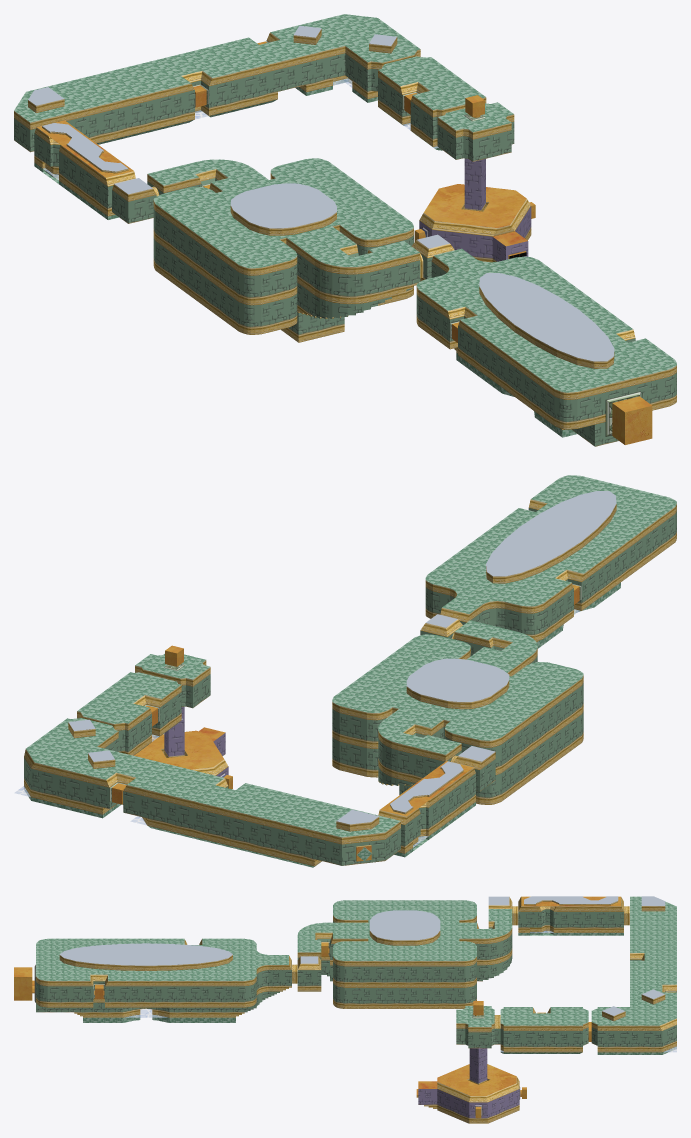
Rendered from kzsca_toonbhop.glb.
3 views of the same model, one above another, from view 1: azimuth 30°, elevation 25°; view 2: azimuth 150°, elevation 25°; view 3: azimuth 270°, elevation 25° (orthographic). The views are drawn at different scales.
Parts seen in each view (by area): view 1: kzsca_toonbhop_static, kzsca_toonbhop_sky; view 2: kzsca_toonbhop_static, kzsca_toonbhop_sky; view 3: kzsca_toonbhop_static, kzsca_toonbhop_sky.
Boxes of the visible parts, x1,y1,x2,y2 form: kzsca_toonbhop_static: (14, 14, 676, 446); kzsca_toonbhop_sky: (28, 25, 614, 361); kzsca_toonbhop_static: (24, 475, 676, 867); kzsca_toonbhop_sky: (68, 491, 616, 824); kzsca_toonbhop_static: (14, 896, 676, 1123); kzsca_toonbhop_sky: (60, 896, 665, 1015).
Bounding box in the file's own units: 91.44 × 32.72 × 183.
20 materials, 19 textured.
